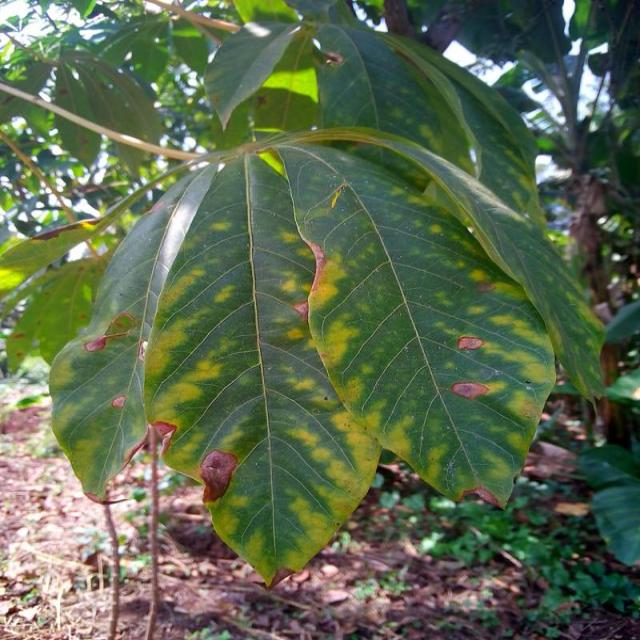cassava leaf: (49, 129, 560, 588)
